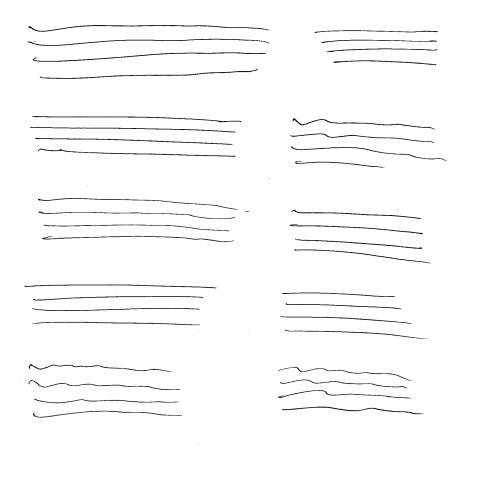Paragraph: (29, 24, 274, 81), (35, 197, 242, 246), (30, 115, 243, 161), (286, 117, 451, 172), (27, 363, 188, 419), (22, 283, 216, 327), (290, 210, 432, 265), (274, 366, 426, 415), (279, 293, 424, 341), (315, 28, 443, 68)
